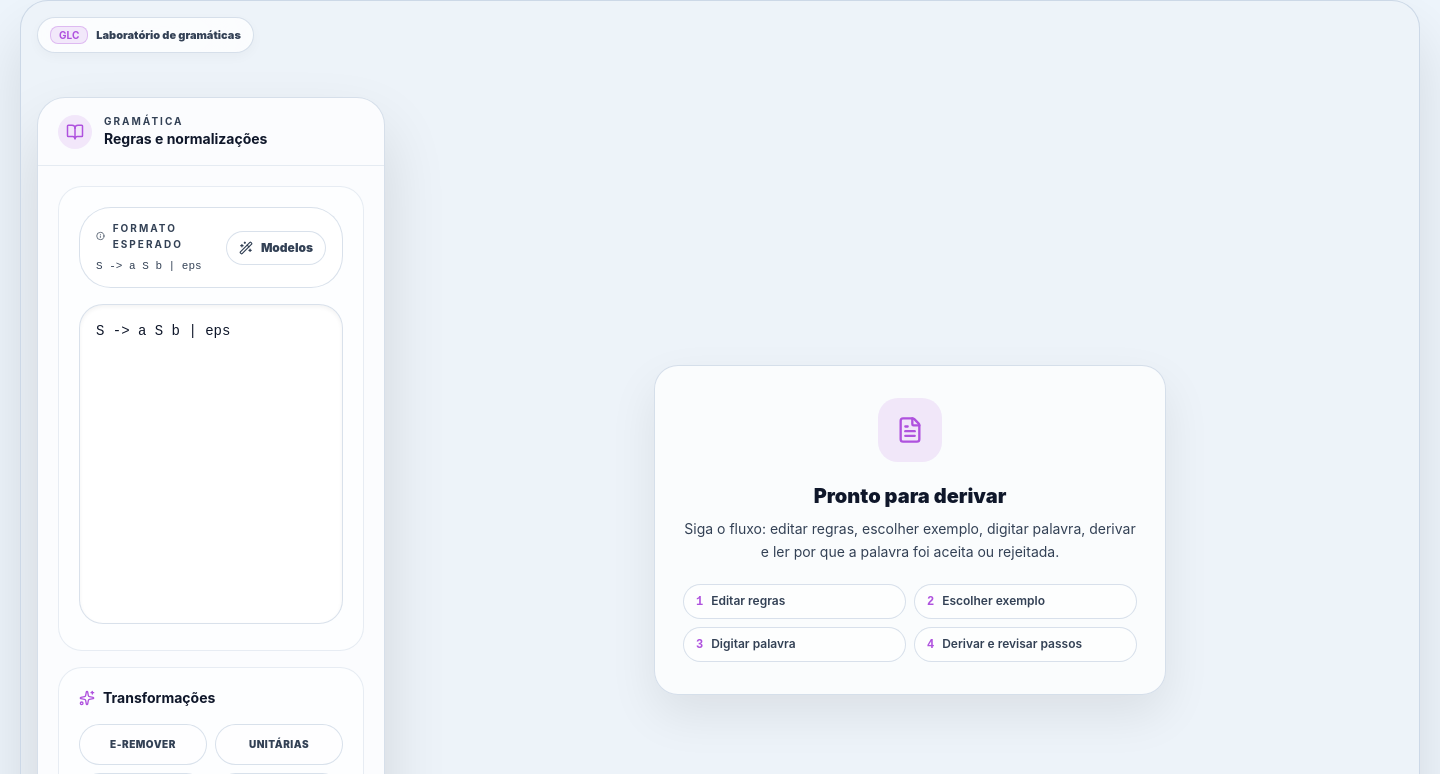
Scenario: GrammarWorkspace › carrega o modelo selecionado no editor de gramática
Step 1. Click the button "Modelos" → (276, 248), box x1=226 y1=231 x2=326 y2=265
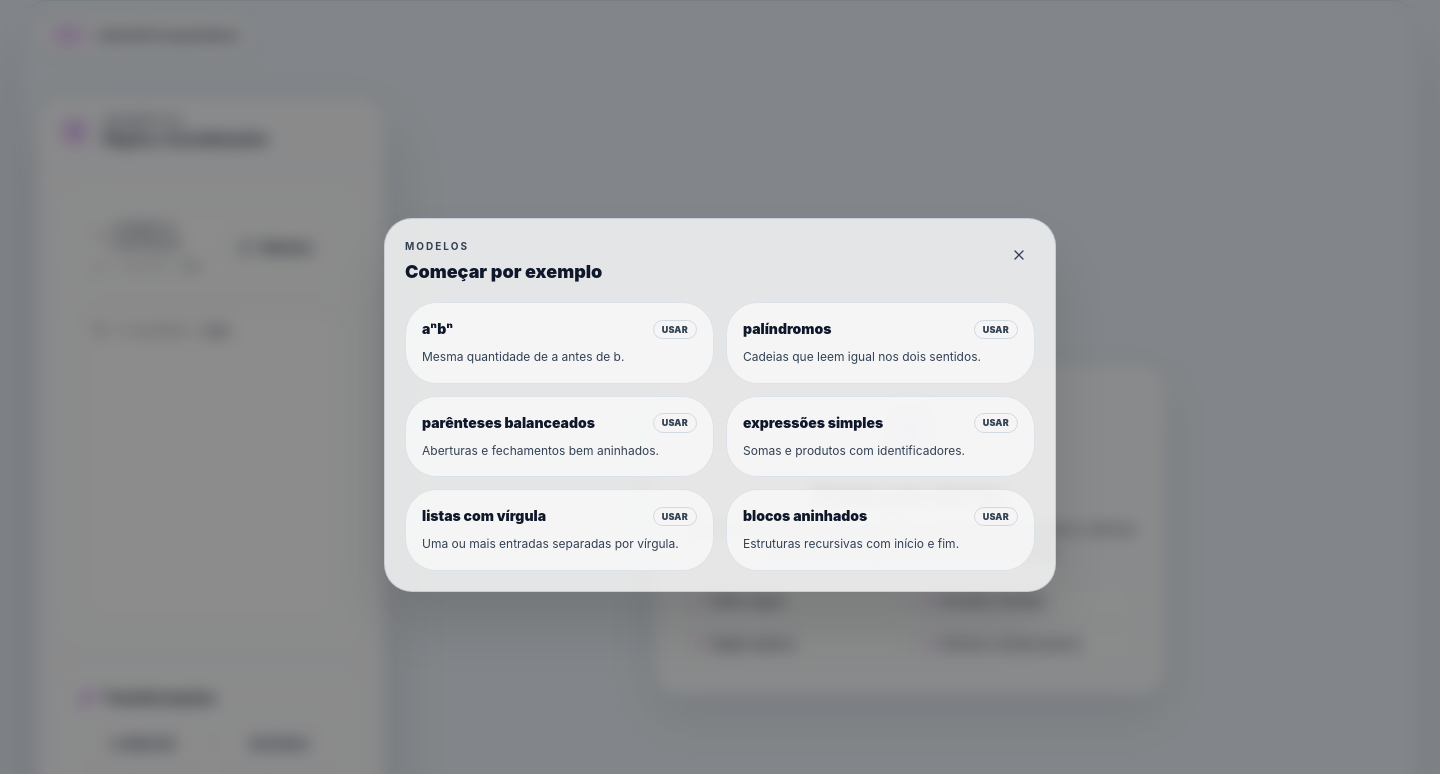
Step 2. Click the button with aria-label "Carregar parênteses balanceados" → (508, 422), box x1=405 y1=396 x2=714 y2=477
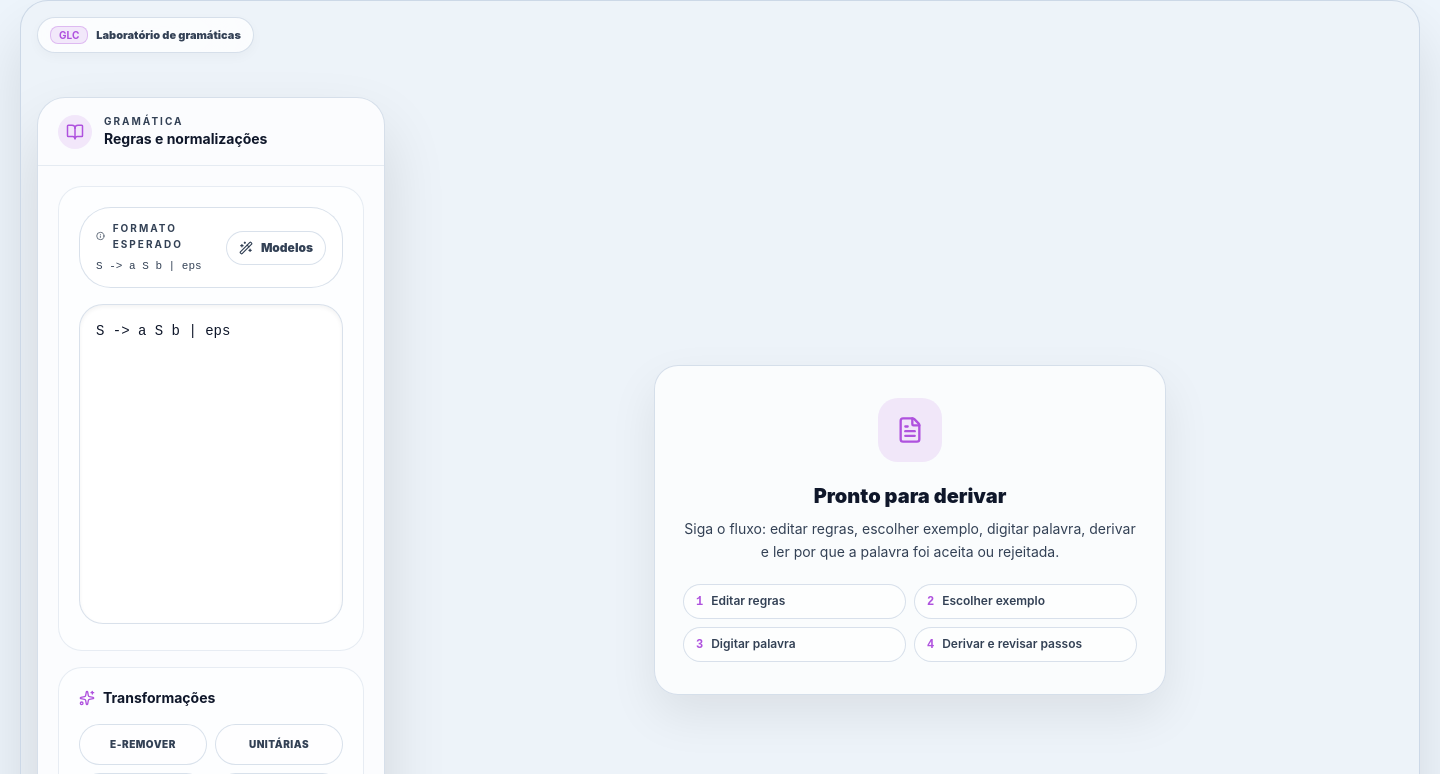
Check: the heading "Começar por exemplo" is gone
